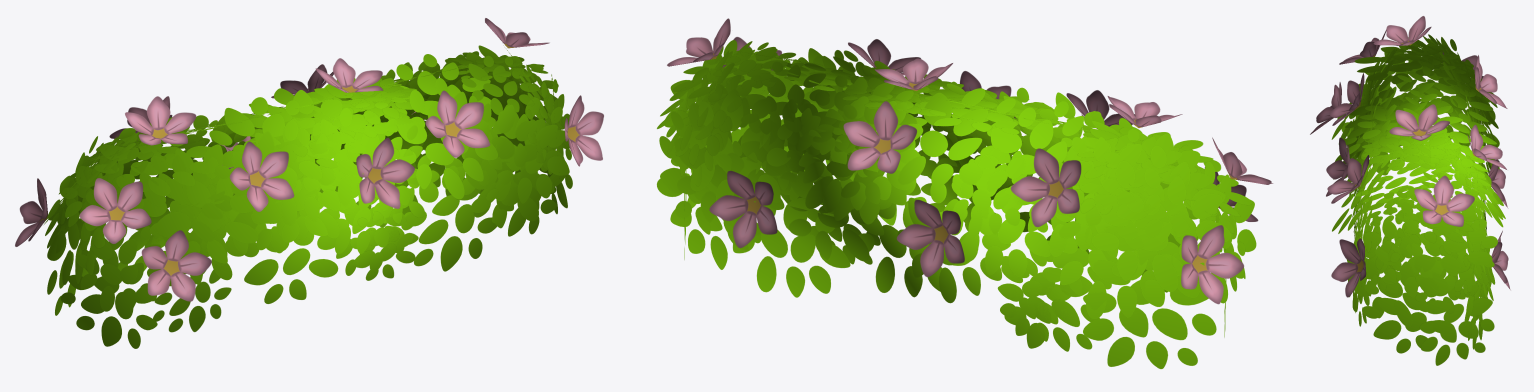
The model's file is bush-small-flowers.glb.
3 renders of one model, left to right at view 1: azimuth 30°, elevation 25°; view 2: azimuth 150°, elevation 25°; view 3: azimuth 270°, elevation 25°, orthographic. The views are drawn at different scales.
Visible parts, largest first — view 1: Bush_Small_Flowers; view 2: Bush_Small_Flowers; view 3: Bush_Small_Flowers.
Boxes of the visible parts, bbox=[...] form: Bush_Small_Flowers: bbox=[15, 18, 603, 348]; Bush_Small_Flowers: bbox=[657, 18, 1272, 368]; Bush_Small_Flowers: bbox=[1310, 16, 1510, 365].
Size of the model in its own units: 1.93 by 0.8168 by 0.7617.
Materials: 2 (2 with a texture image).
